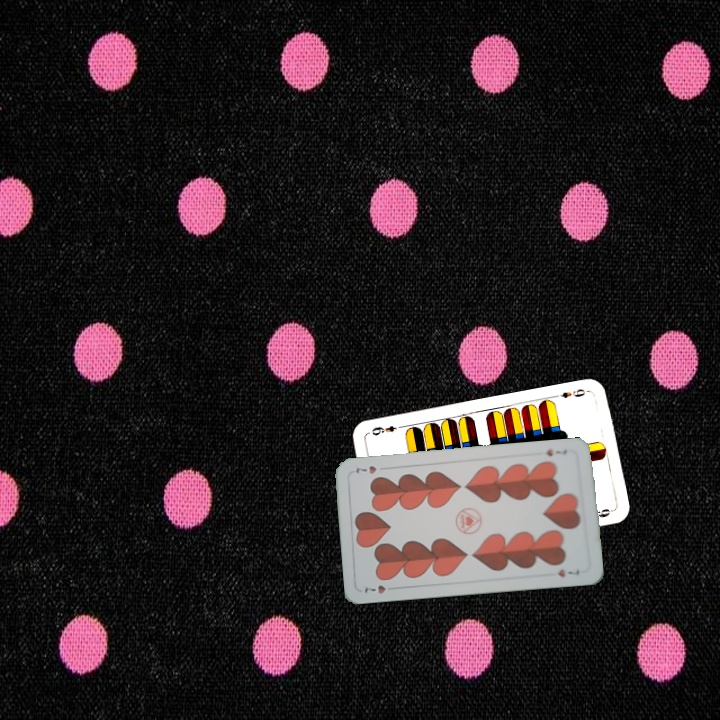E9: (551, 385, 592, 401)
H7: (361, 581, 388, 597), (542, 445, 569, 459)
